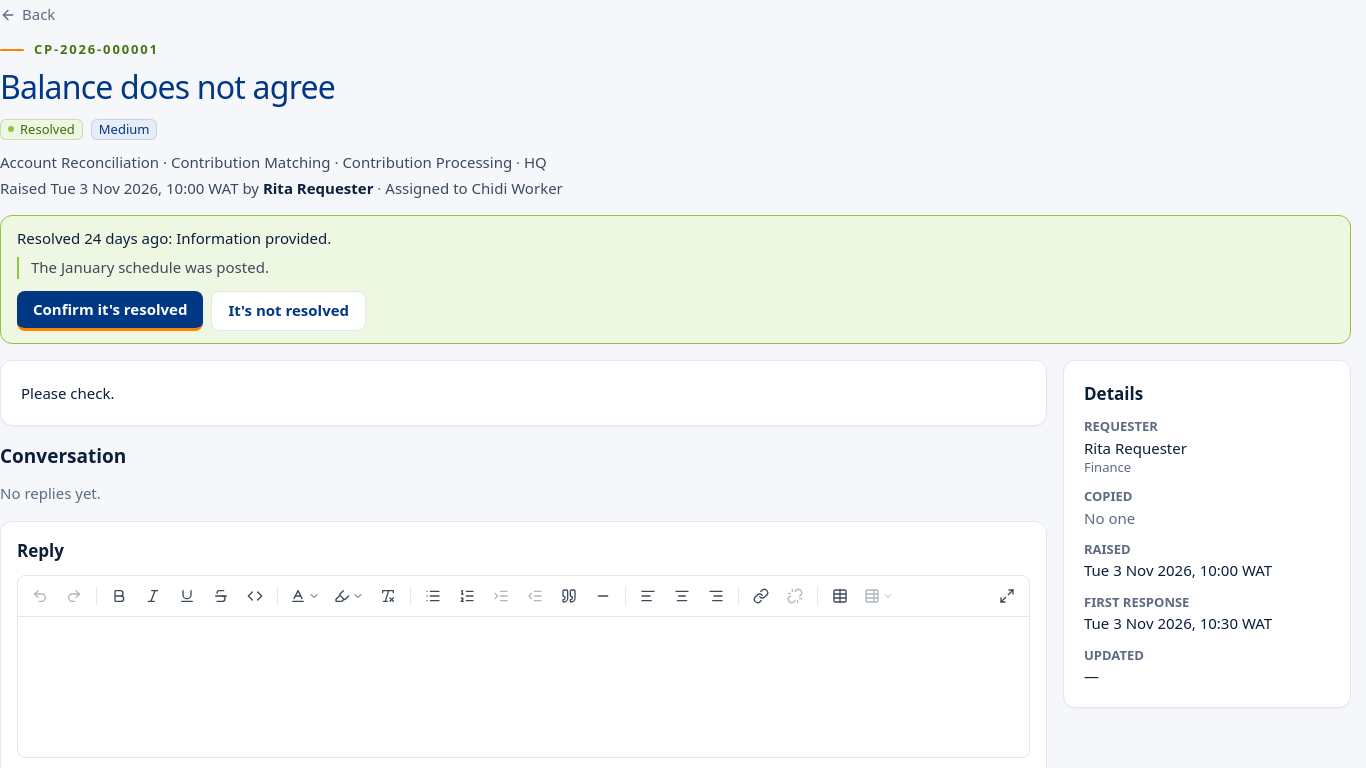
Action bar › a requester with canConfirm and canReopen sees them in the Resolved callout; confirm asks first
Click the button "Confirm it's resolved" at (110, 311), box x1=17 y1=291 x2=203 y2=331
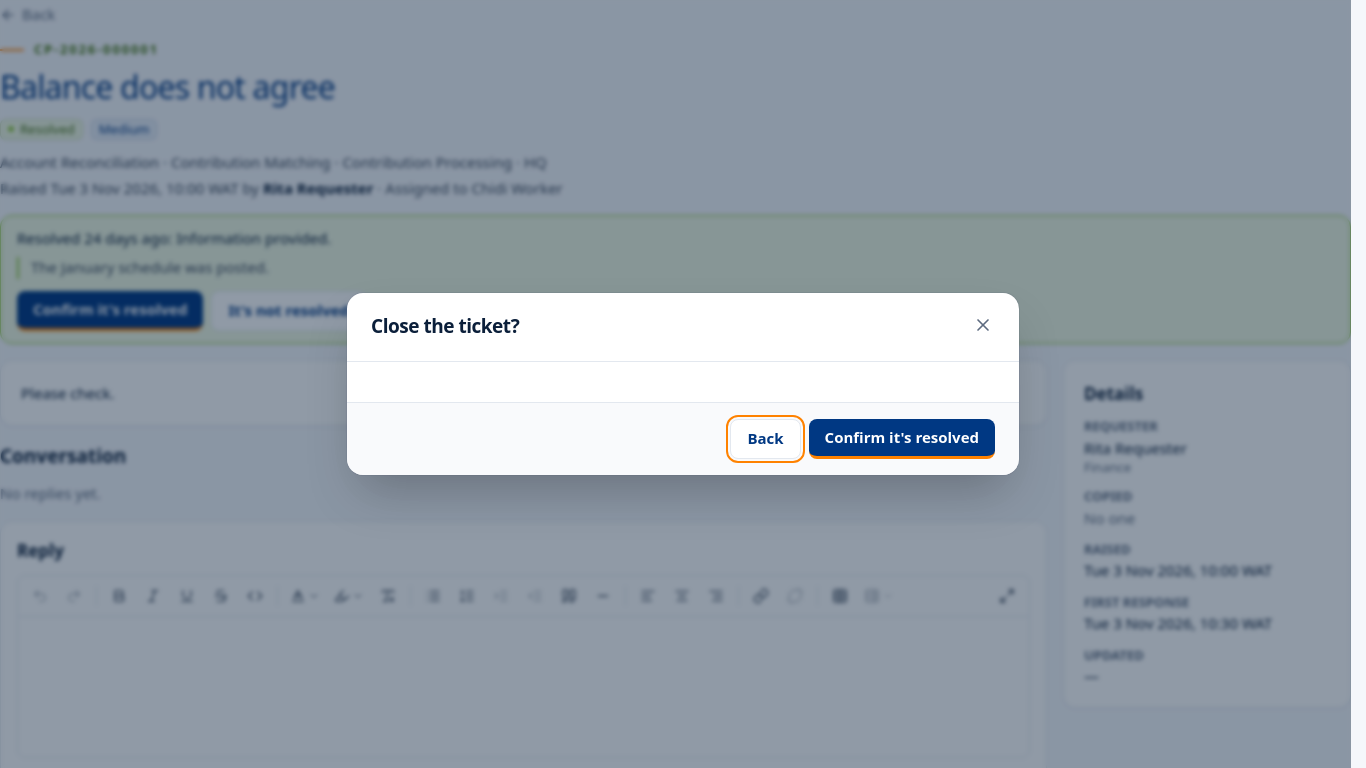
Expected: the button "It's not resolved" is shown, x1=211 y1=291 x2=366 y2=331
Click the button "Confirm it's resolved" at (902, 439), box x1=809 y1=419 x2=995 y2=459
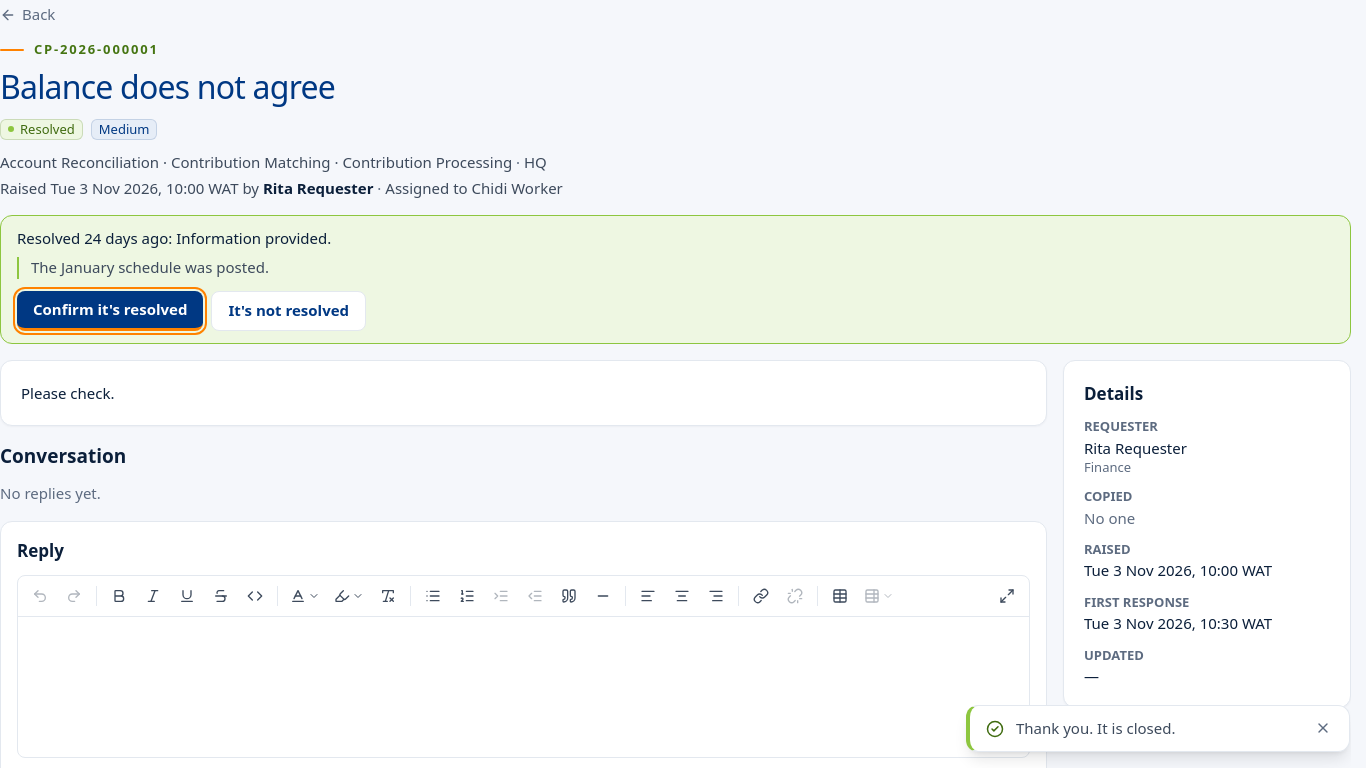
Result: the text "Thank you. It is closed." is shown at x1=1016 y1=718 x2=1176 y2=738
